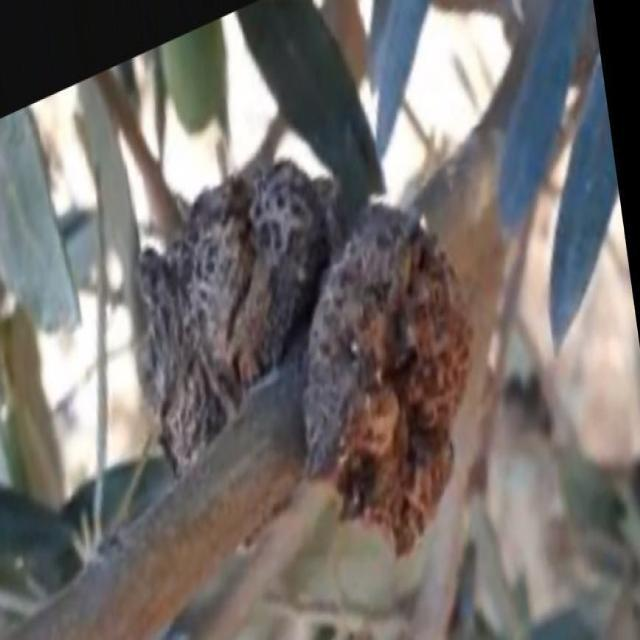Tuberculosis: (303, 203, 473, 554), (134, 160, 346, 420)
